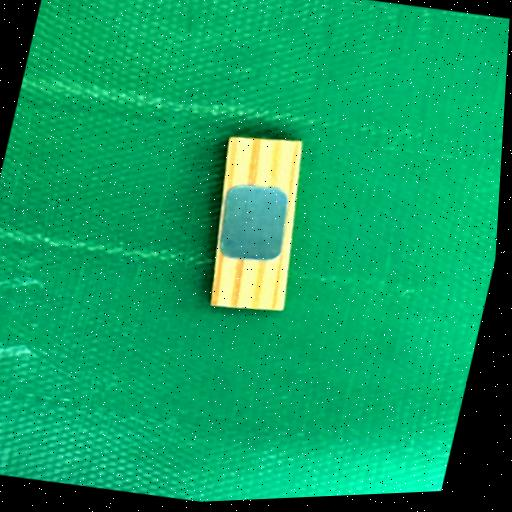objects: (211, 134, 300, 312)
